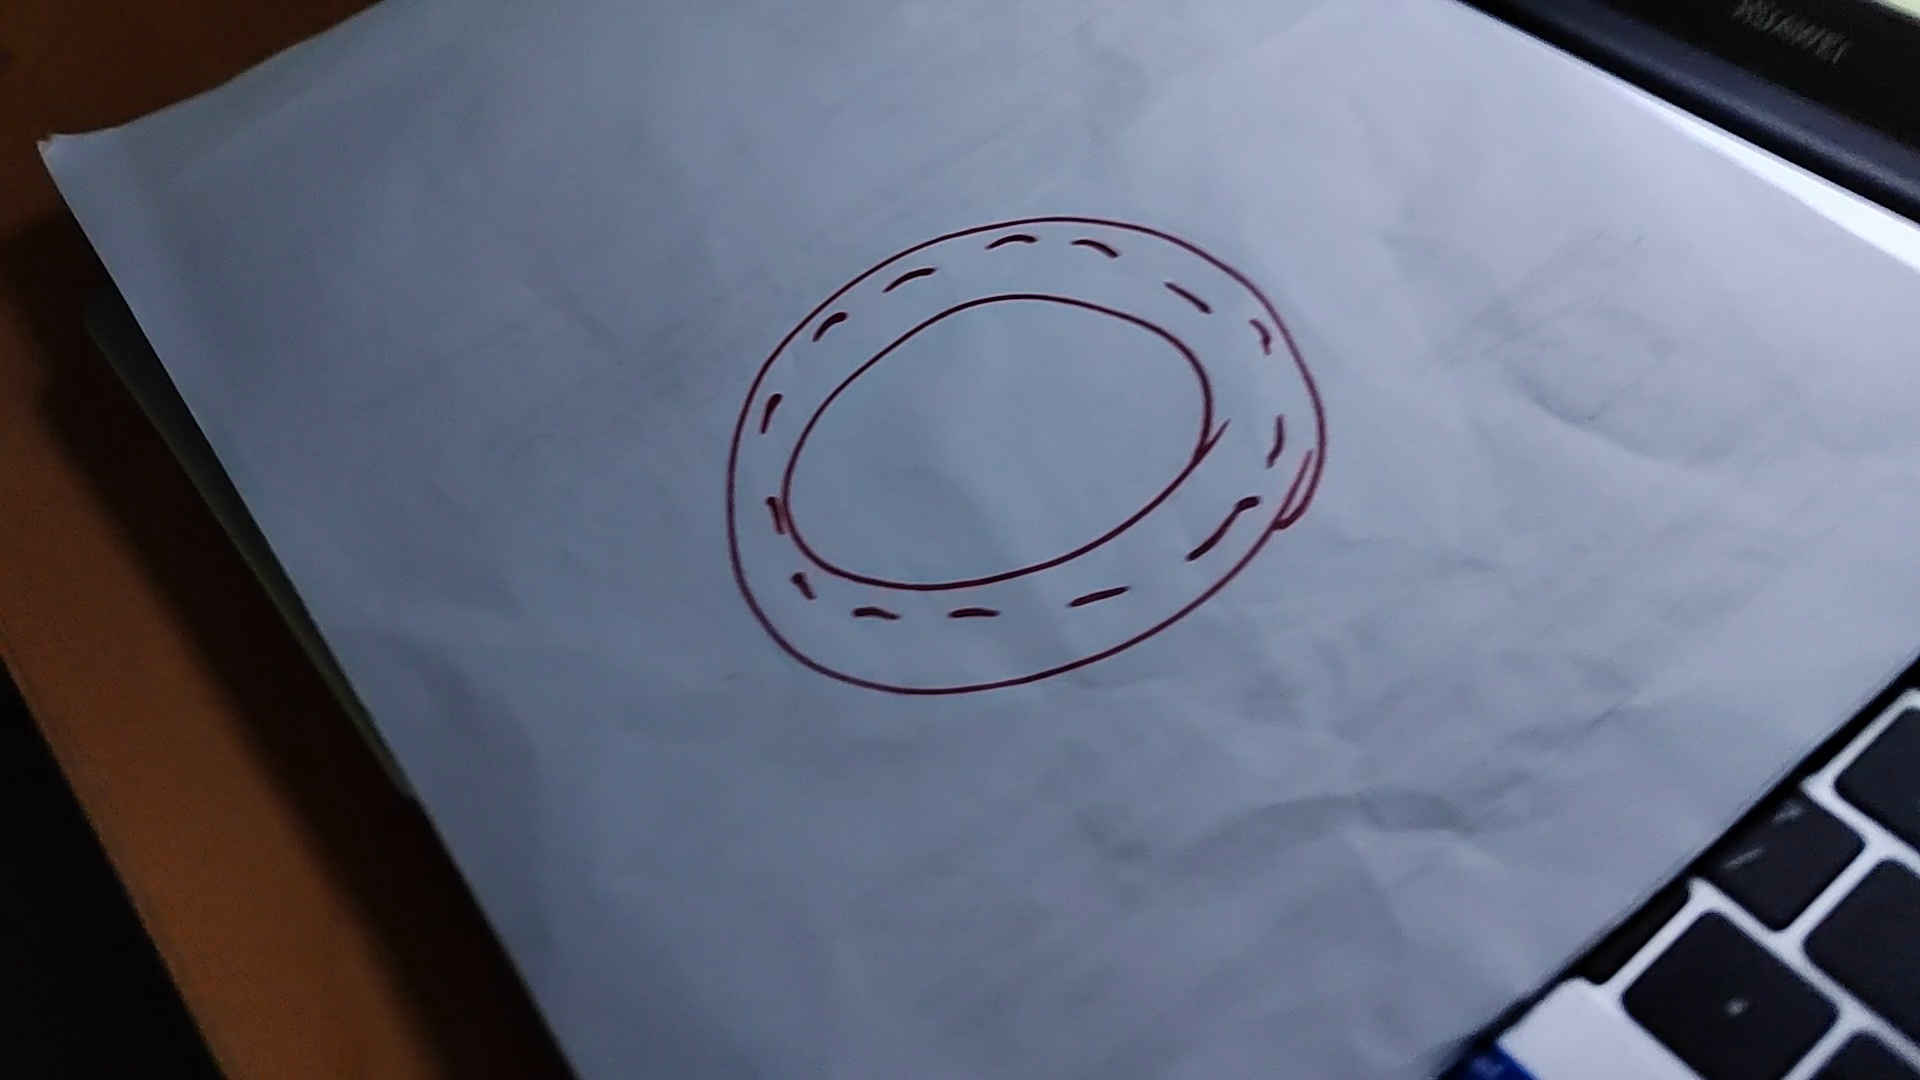circle: (724, 218, 1331, 698)
